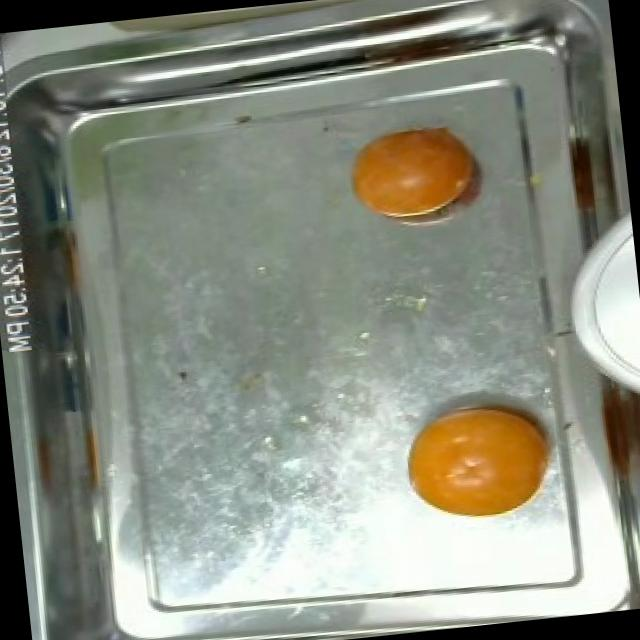Fruit: (391, 382, 568, 534), (334, 112, 488, 227)
